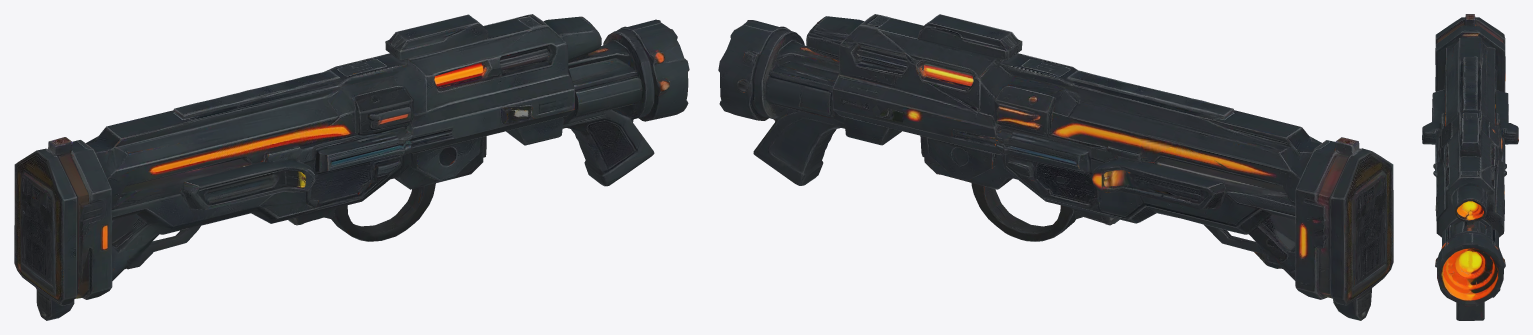
The model's file is scatter.glb.
3 views of the same model, side by side, from view 1: azimuth 30°, elevation 25°; view 2: azimuth 150°, elevation 25°; view 3: azimuth 270°, elevation 25° (orthographic). The views are drawn at different scales.
Size of the model in its own units: 1.9 by 0.564 by 0.3596.
Materials: 1 (1 with a texture image).
